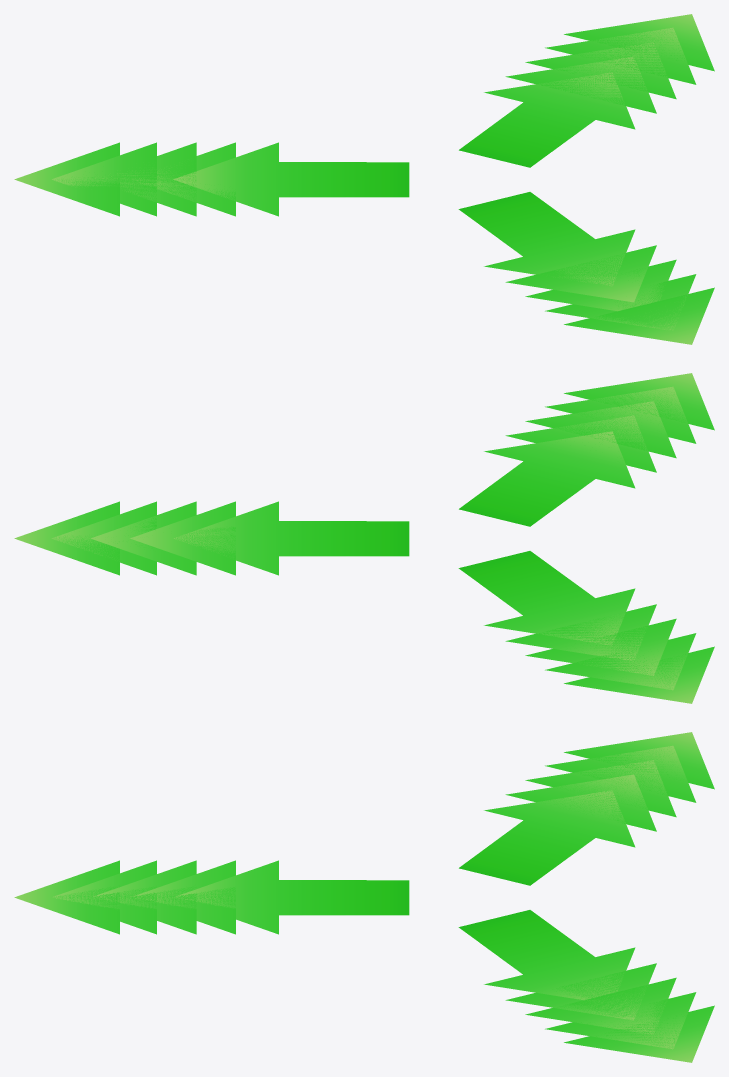
The model's file is arrowAnimation12.fbx.
3 views of the same model, one above another, from view 1: azimuth 30°, elevation 25°; view 2: azimuth 150°, elevation 25°; view 3: azimuth 270°, elevation 25° (orthographic).
Visible parts, largest first — view 1: frame1, frame5, frame2, frame4, frame3; view 2: frame1, frame2, frame3, frame5, frame4; view 3: frame1, frame3, frame2, frame4, frame5.
Part boxes in pixels (x1,y1,x2,y2): frame1: (173,72,635,286); frame5: (14,14,714,344); frame2: (137,56,656,302); frame4: (52,27,696,330); frame3: (95,42,676,311); frame1: (174,431,635,645); frame2: (130,415,656,661); frame3: (90,401,676,675); frame5: (14,373,714,703); frame4: (51,386,696,690); frame1: (176,790,635,1000); frame3: (93,760,676,1034); frame2: (133,774,656,1020); frame4: (53,745,696,1049); frame5: (14,732,714,1062).
Size of the model in its own units: 0.0204 by 8.12e-06 by 0.0182.
